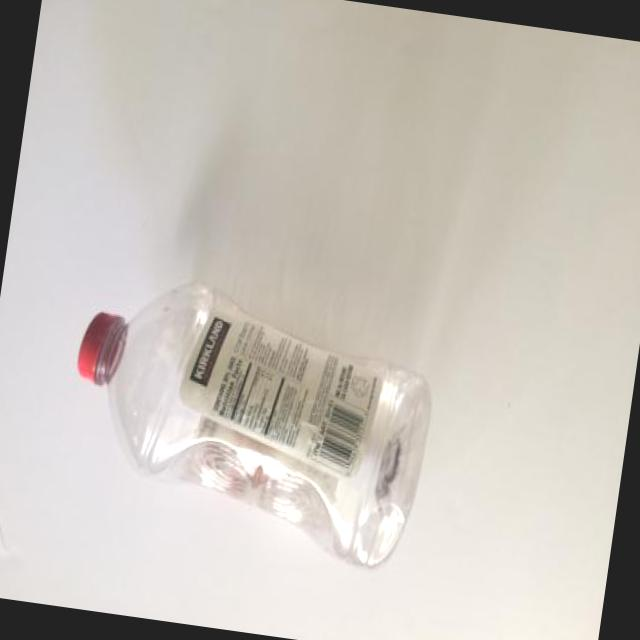Recycle: (53, 268, 444, 574)
